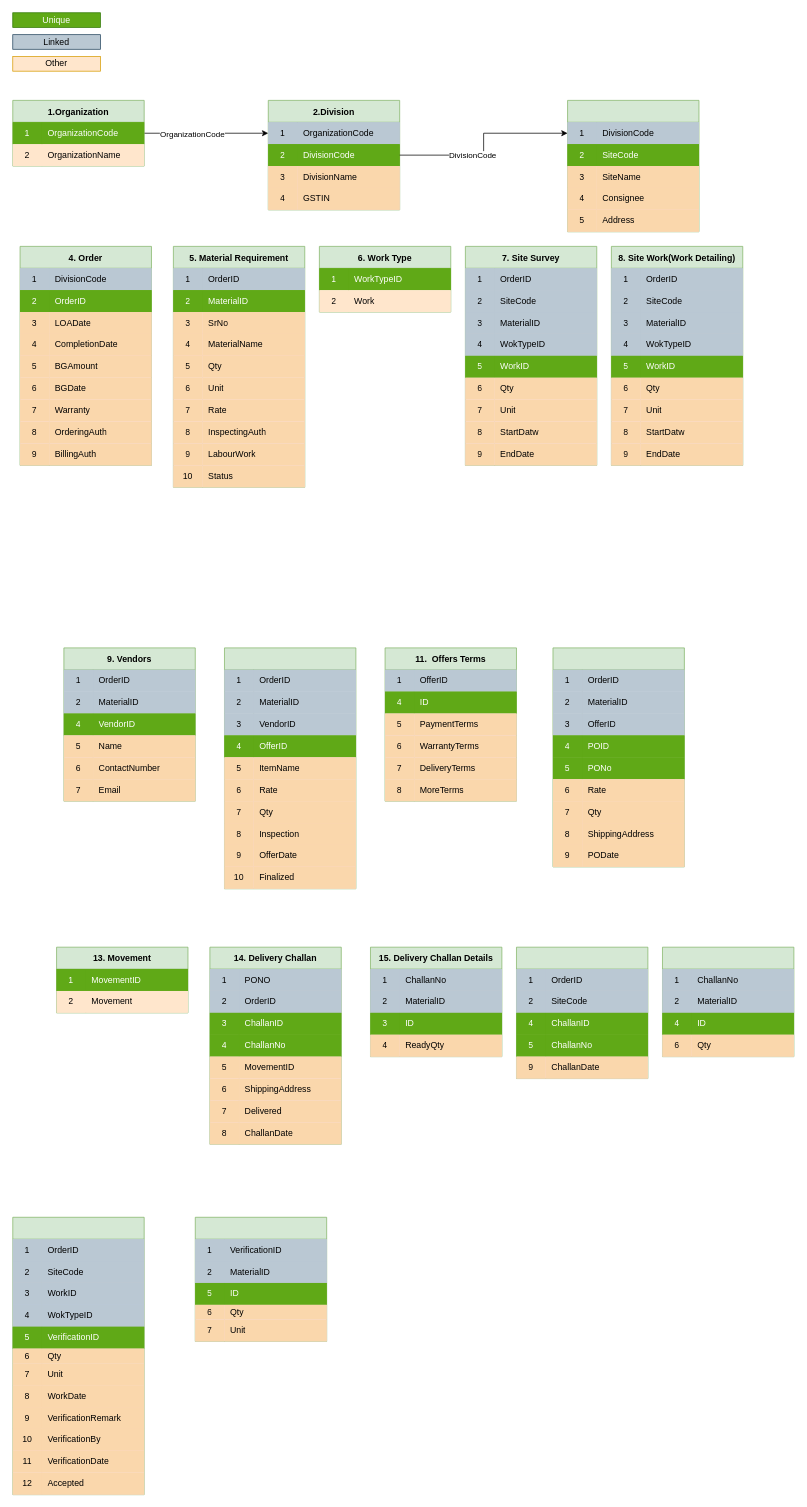
Image size: 807x1507. Some labels were removed from this diagram. Each missing label, with the box of its shape:
10. Offers: (224, 647, 356, 889)
12. PO: (552, 647, 684, 867)
16. Issue Challan: (516, 946, 648, 1079)
17. Issue Challan Details: (662, 946, 794, 1057)
18. Work Verification: (12, 1217, 144, 1495)
18.Consumed: (195, 1217, 327, 1341)
3.Site: (567, 100, 699, 232)
